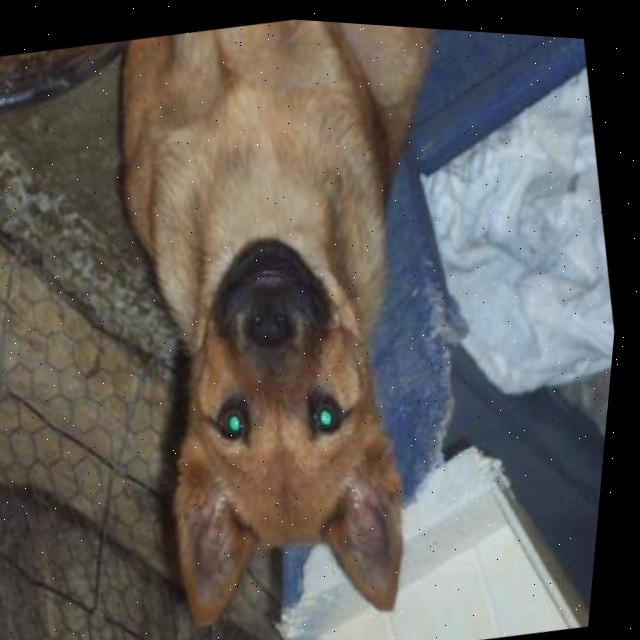dogs: (52, 5, 558, 640)
